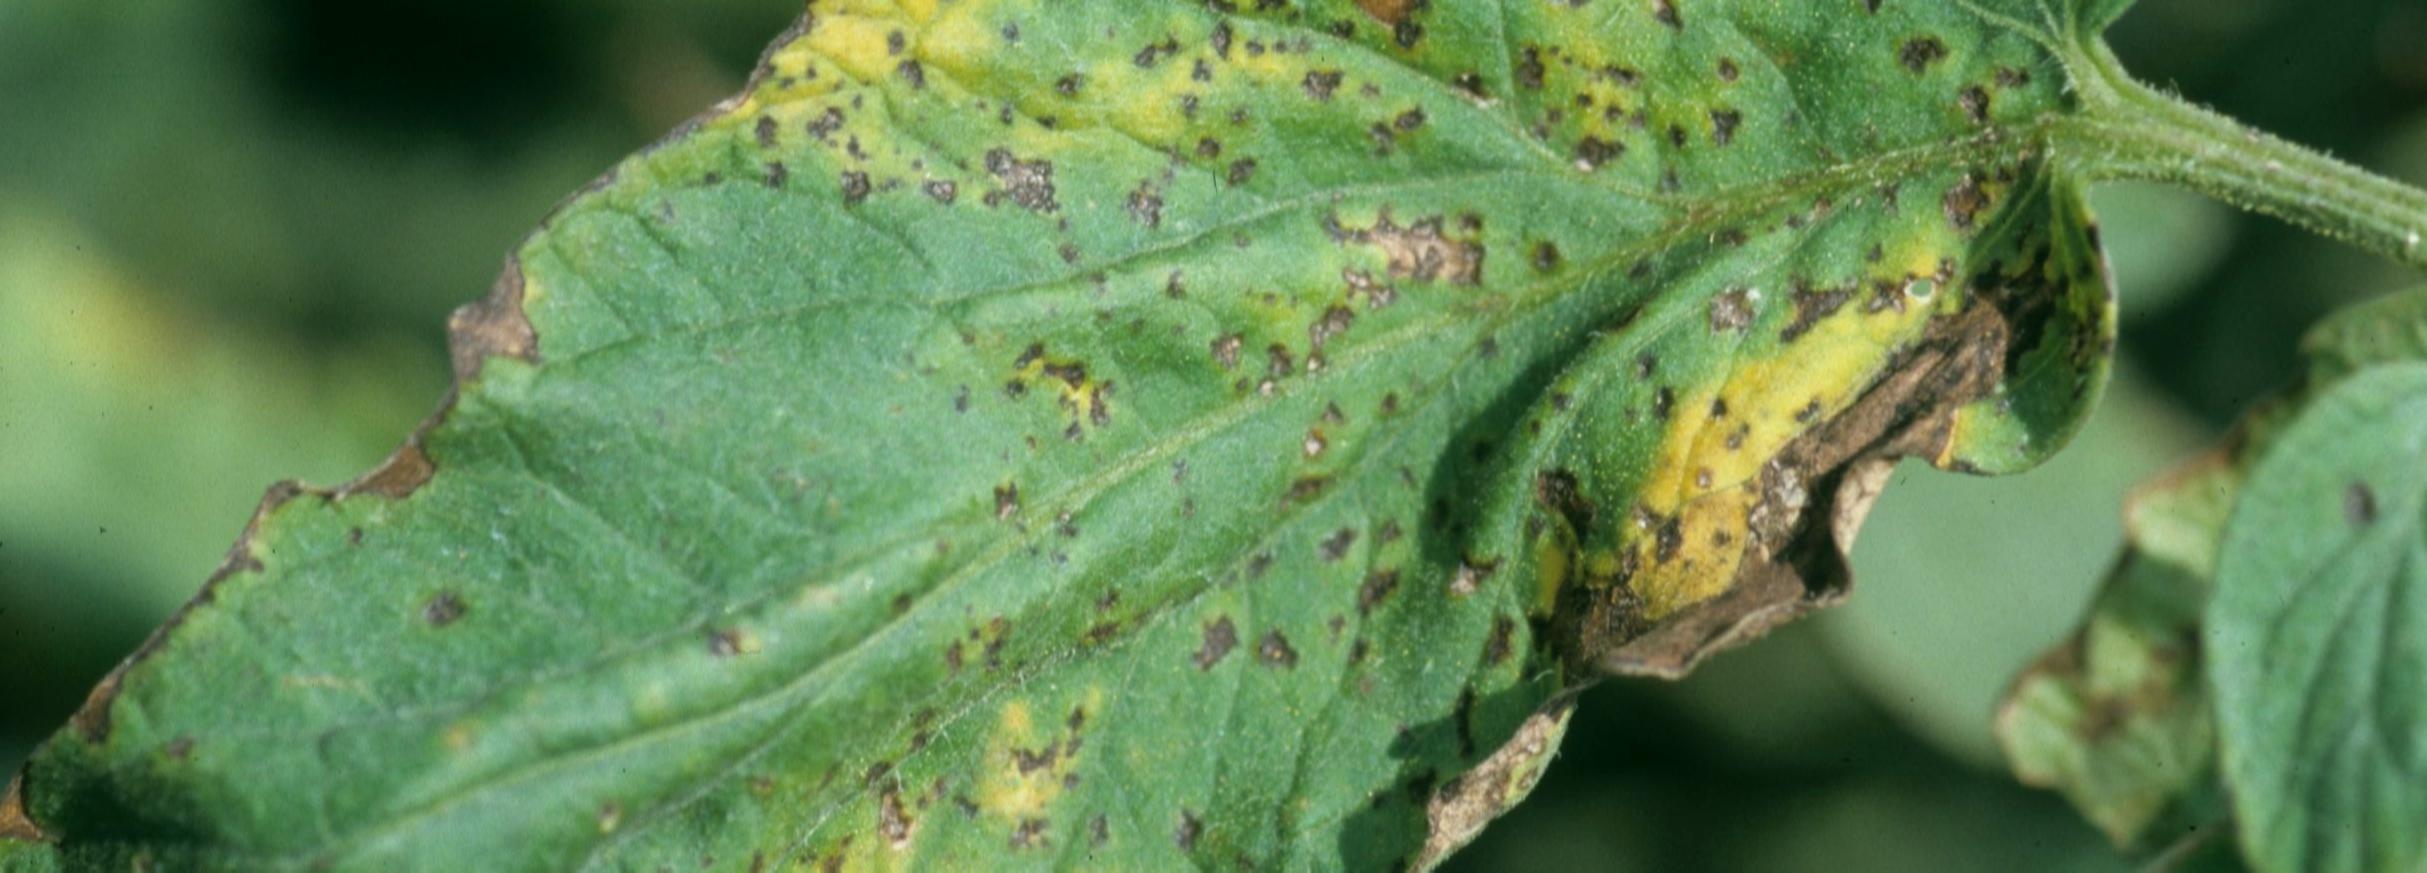Tomato leaf bacterial spot: (0, 0, 2342, 873)
